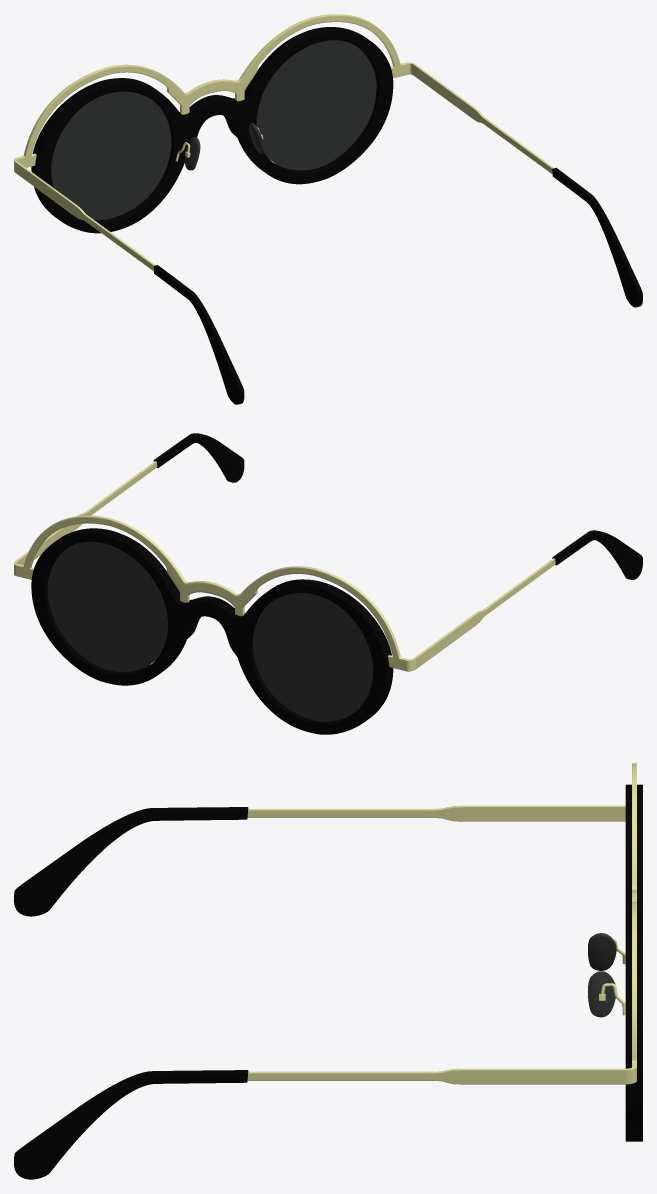
Rendered from models.glb.
The picture shows the model from 3 angles, top to bottom: view 1: azimuth 30°, elevation 25°; view 2: azimuth 150°, elevation 25°; view 3: azimuth 270°, elevation 25°; orthographic projection. The views are drawn at different scales.
Visible parts, largest first — view 1: Line001.001; view 2: Line001.001; view 3: Line001.001.
Boxes of the visible parts, x1,y1,x2,y2 form: Line001.001: (14,14,642,404); Line001.001: (14,433,642,734); Line001.001: (14,763,642,1179).
Size of the model in its own units: 0.13 by 0.05 by 0.13.
